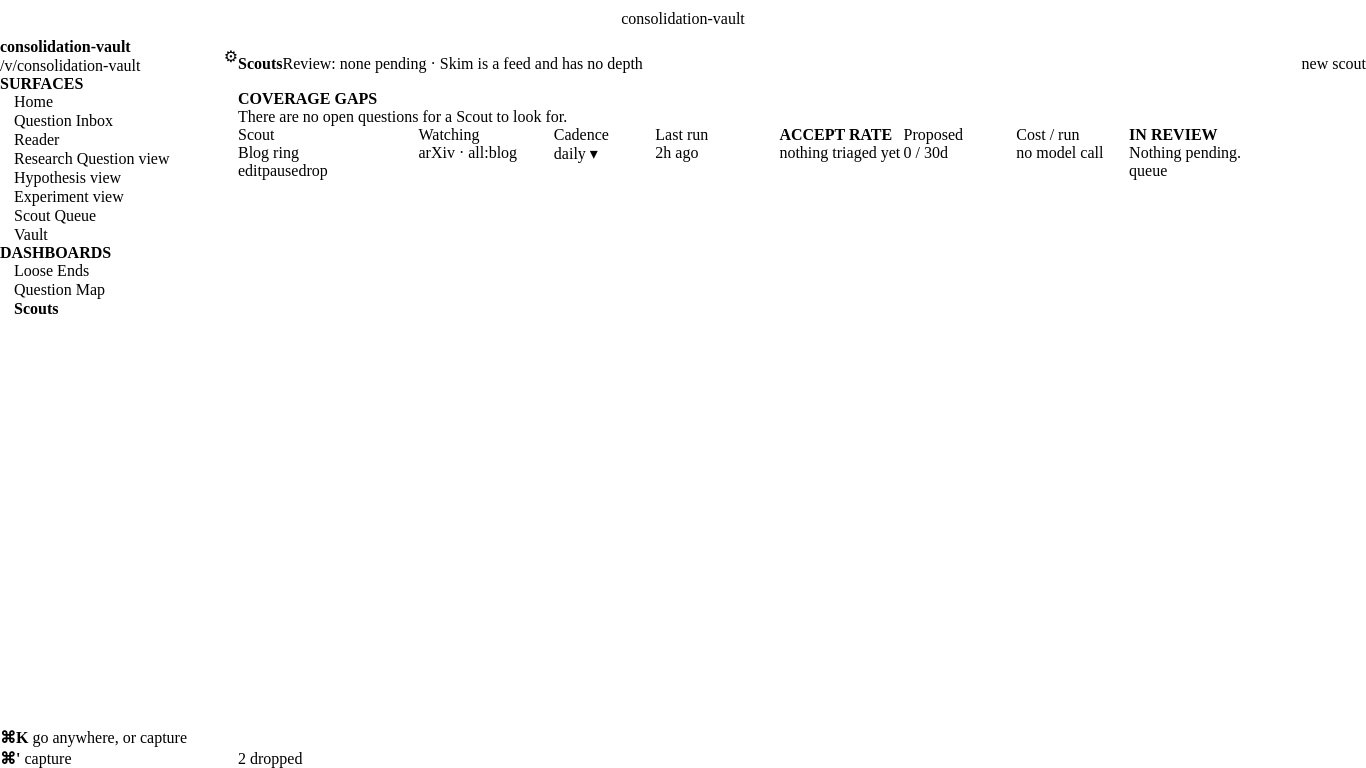
Test: Scouts screen — erase › says a refusal as an alert beside the Scout it was about, with the core's reason, and leaves it on the line
expect the table named "Scouts" is shown: met, box [238,126,1365,180]
Step 1. Click the button "2 dropped" → click(270, 759), box [238,750,302,767]
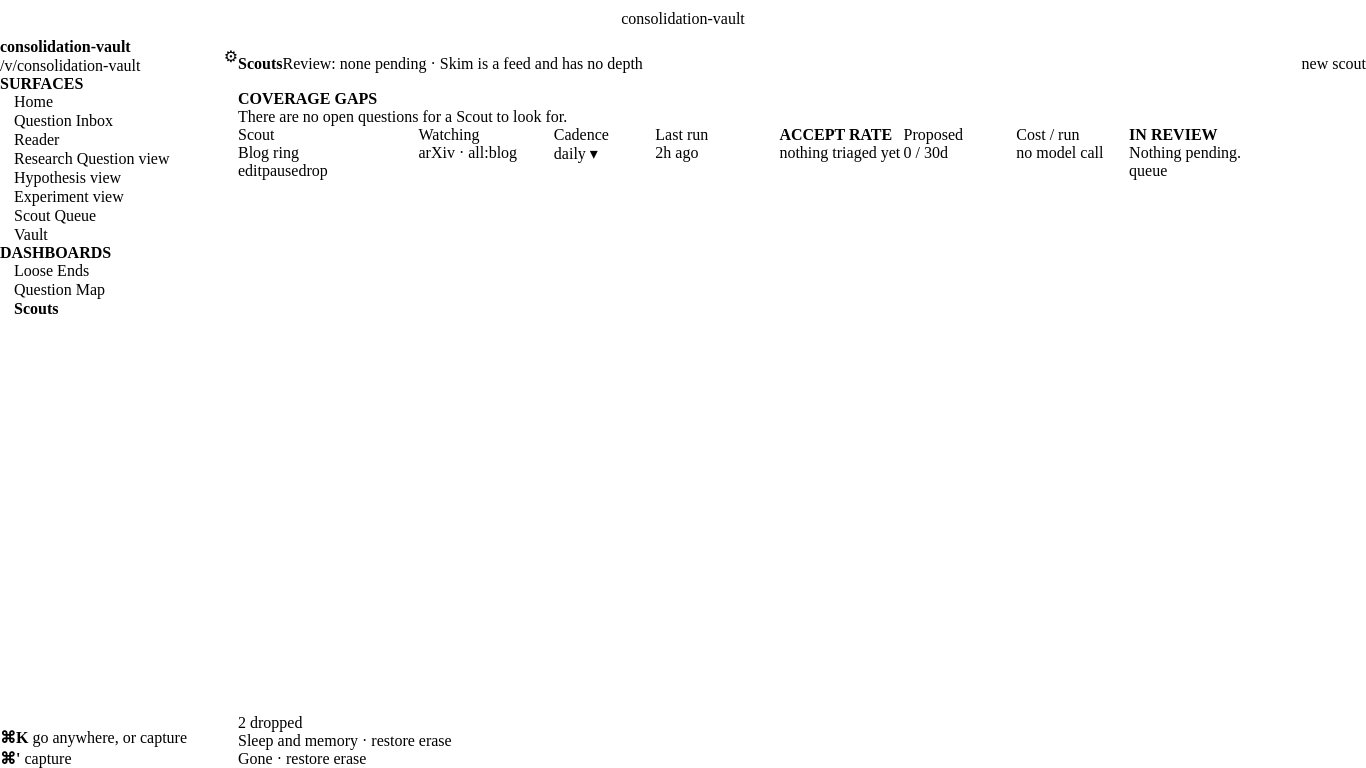
Step 2. Click the button with aria-label "Sleep and memory: erase" → click(435, 741), box [419,732,452,750]
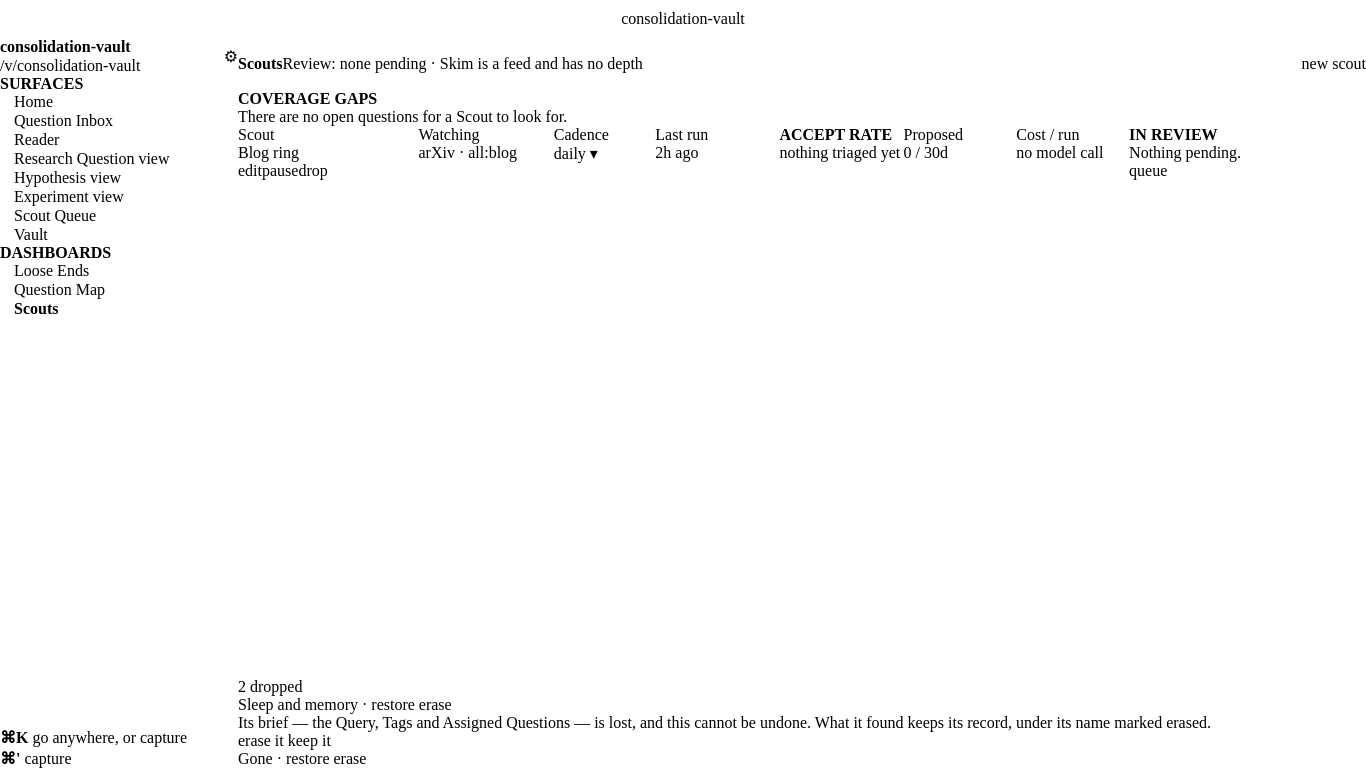
Step 3. Click the button "erase it" → click(261, 741), box [238,732,284,750]
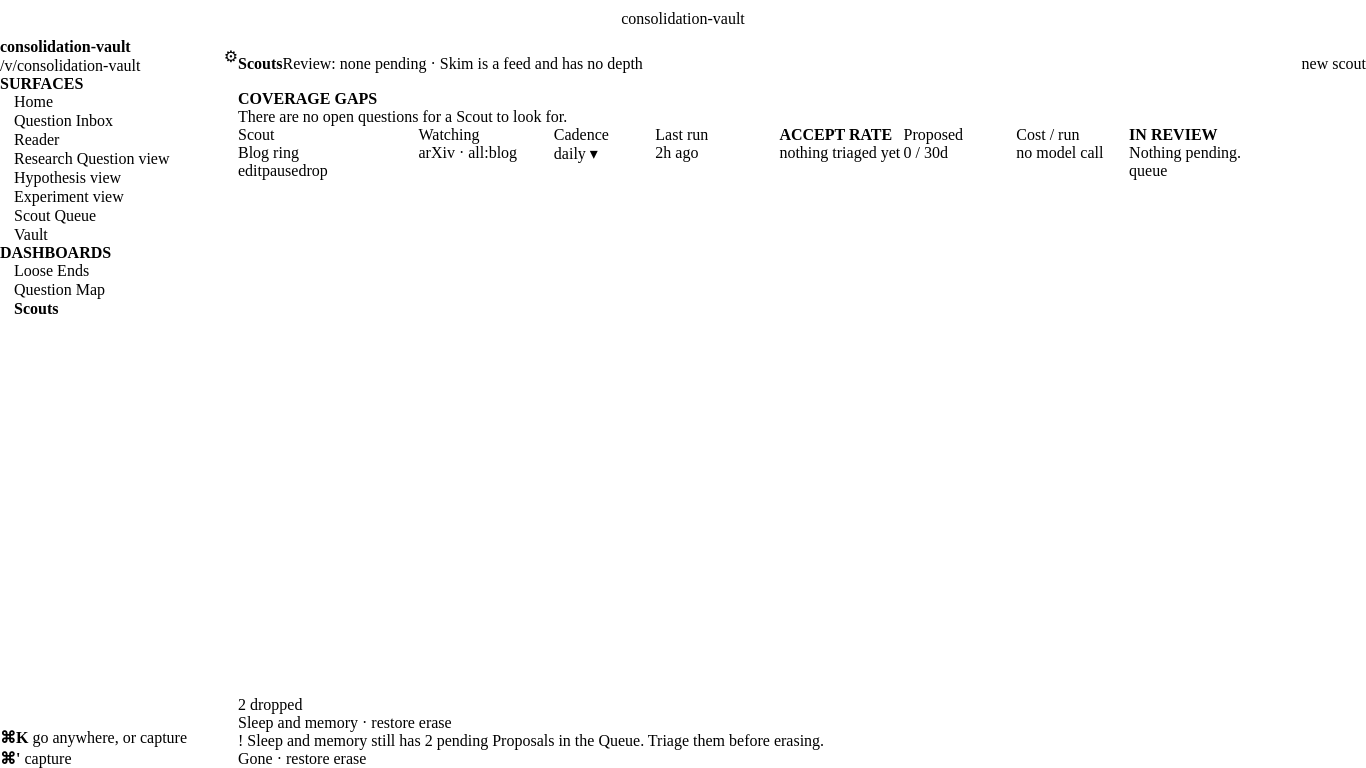
expect the button with aria-label "Sleep and memory: restore" is shown: met, box [371,714,415,732]
expect the button with aria-label "Sleep and memory: erase" is shown: met, box [419,714,452,732]
expect the message shows "Sleep and memory still has 2 pending Proposals in the Queue. Triage them before erasing.": met, box [247,732,824,749]
